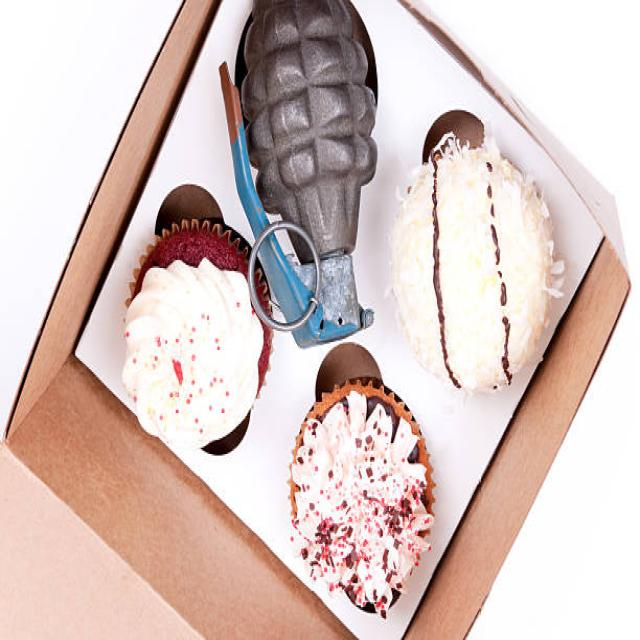grenade: (220, 1, 388, 352)
